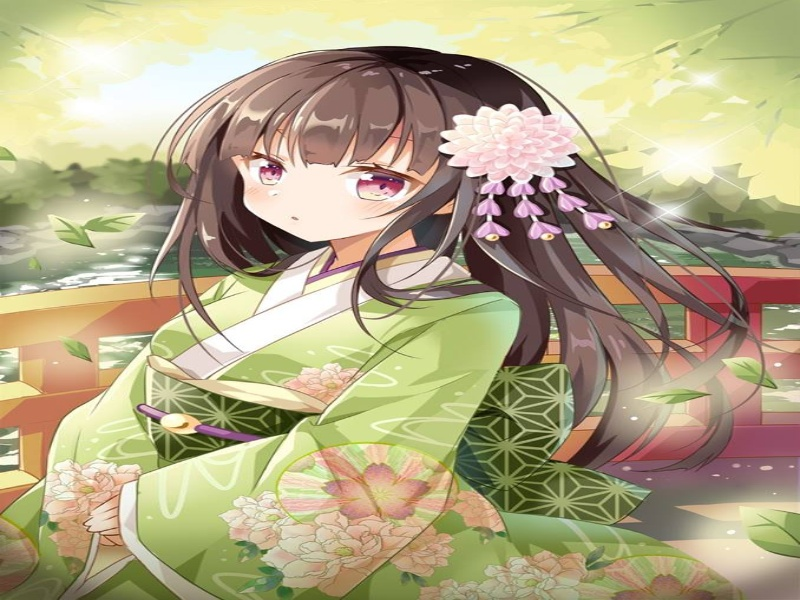dress: (151, 40, 620, 296)
flower: (213, 484, 597, 600), (23, 448, 161, 552), (285, 351, 379, 413)
